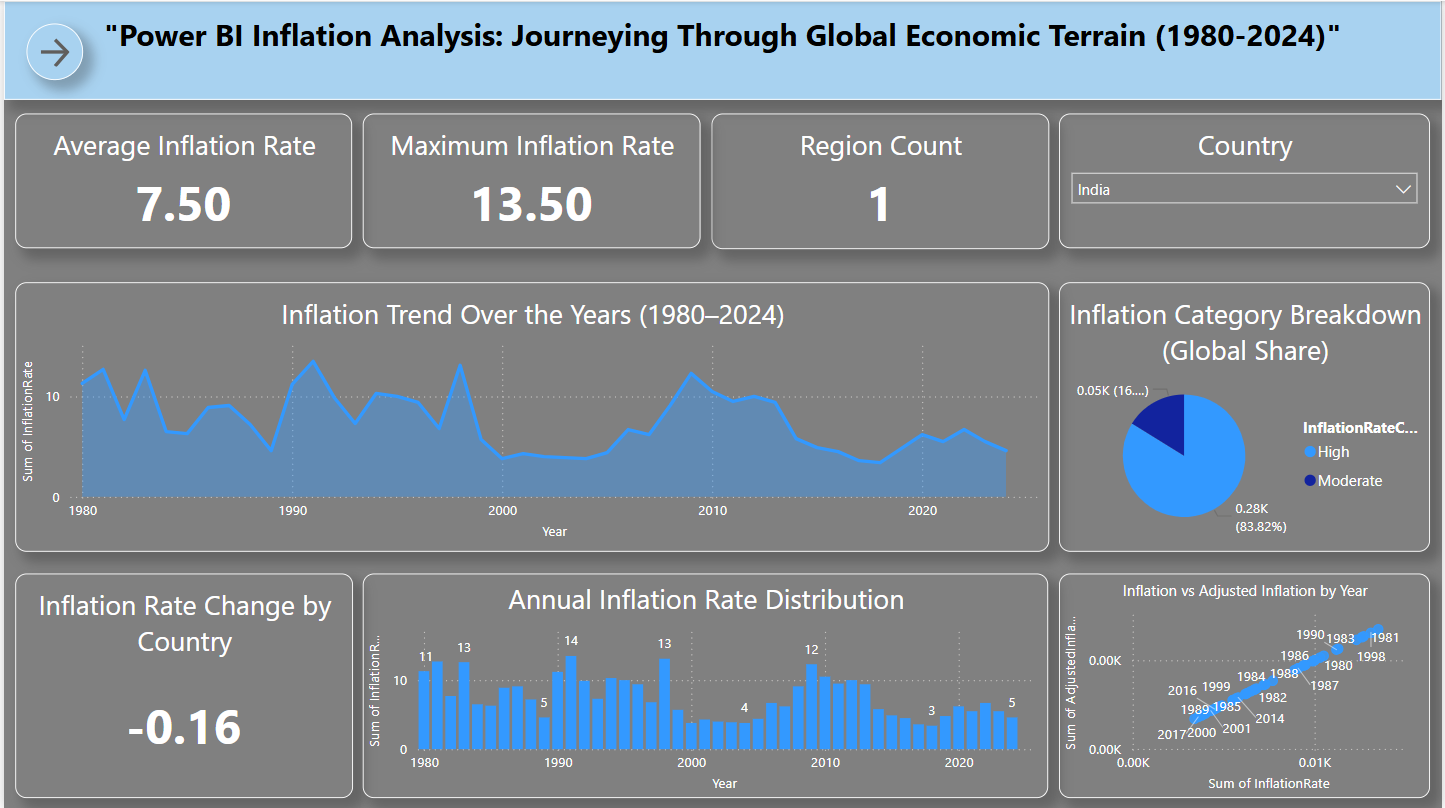

The page's visual inventory and layout, read from the dashboard file:
{"tool":"powerbi","page":{"name":"Page 1 - Dashboard","canvas":[1280,720],"ordinal":0},"visuals":[{"type":"textbox","box":[0,0,1280.3,88],"z":0},{"type":"card","title":"Average Inflation Rate","fields":{"Values":["Avg(GlobalInflationData.InflationRate)"]},"box":[10,100,300,120],"z":1000},{"type":"card","title":"Region Count","fields":{"Values":["Count(GlobalInflationData.Region)"]},"box":[630,100,300.4,120.6],"z":2000},{"type":"card","title":"Maximum Inflation Rate","fields":{"Values":["Max(GlobalInflationData.InflationRate)"]},"box":[320,100,300.4,120],"z":3000},{"type":"slicer","title":"Country","fields":{"Values":["GlobalInflationData.CountryName"]},"box":[940,100,330,120],"z":4000},{"type":"lineChart","title":"Inflation Trend Over the Years (1980–2024)","fields":{"Category":["GlobalInflationData.Year"],"Y":["Sum(GlobalInflationData.InflationRate)"]},"box":[10,250,920.5,240.1],"z":5000},{"type":"pieChart","title":"Inflation Category Breakdown (Global Share)","fields":{"Category":["GlobalInflationData.InflationRateCategory"],"Y":["Sum(GlobalInflationData.InflationRate)"]},"box":[940,250,330.6,240.1],"z":6000},{"type":"card","title":"Inflation Rate Change by Country","fields":{"Values":["GlobalInflationData.InflationRateChange"]},"box":[10,510,300.4,200],"z":7000},{"type":"columnChart","title":"Annual Inflation Rate Distribution","fields":{"Category":["GlobalInflationData.Year"],"Y":["Sum(GlobalInflationData.InflationRate)"]},"box":[320,510.3,610.5,200.3],"z":8000},{"type":"scatterChart","title":"Inflation vs Adjusted Inflation by Year","fields":{"Category":["GlobalInflationData.Year"],"X":["Sum(GlobalInflationData.InflationRate)"],"Y":["Sum(GlobalInflationData.AdjustedInflationRate)"]},"box":[940,510,330,200],"z":9000},{"type":"actionButton","box":[20,20,50,50],"z":10000}]}

Visuals, with their boxes in screenshot pixels (x1, y1, x2, y2), scaled from the page's 1280x720 canvas onto the 1445x808 screenshot:
textbox: (0, 0, 1444, 99)
"Average Inflation Rate" card: (11, 112, 350, 247)
"Region Count" card: (711, 112, 1050, 248)
"Maximum Inflation Rate" card: (361, 112, 700, 247)
"Country" slicer: (1061, 112, 1434, 247)
"Inflation Trend Over the Years (1980–2024)" lineChart: (11, 281, 1050, 550)
"Inflation Category Breakdown (Global Share)" pieChart: (1061, 281, 1434, 550)
"Inflation Rate Change by Country" card: (11, 572, 350, 797)
"Annual Inflation Rate Distribution" columnChart: (361, 573, 1050, 797)
"Inflation vs Adjusted Inflation by Year" scatterChart: (1061, 572, 1434, 797)
actionButton: (23, 22, 79, 79)
